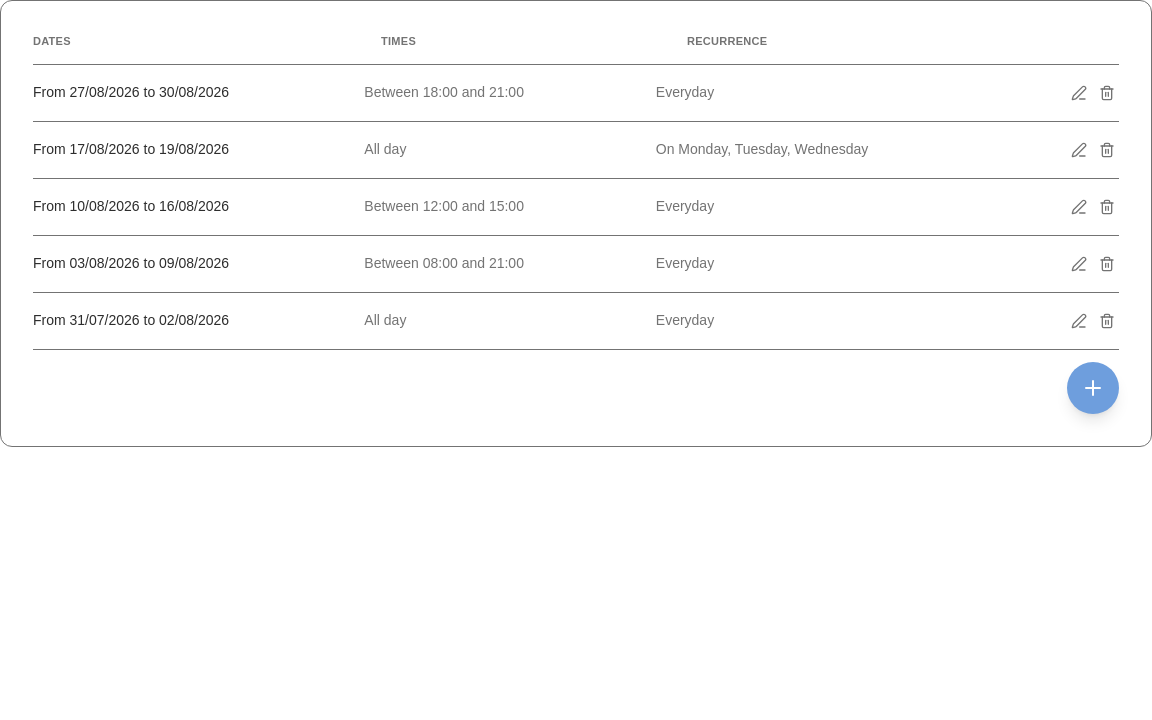
Test: Availability › disables Save until a valid date is entered for the default range mode
The width and height of the screenshot is (1152, 720).
Click the button named "Add availability".
click(1093, 388)  # box [1067,362,1119,414]
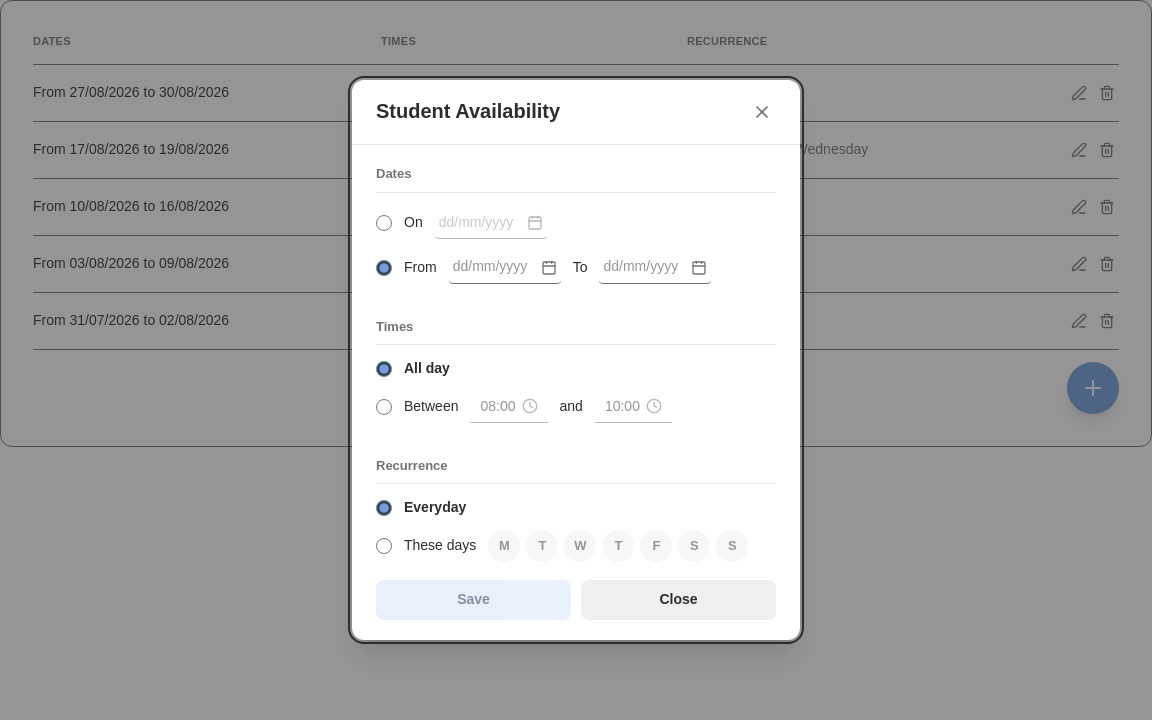
Expected: the button "Save" is disabled, [376,580,571,620]
Type "20/08/2026" into the field named "From date".
click(505, 268); type("20/08/2026")  # box [449,251,561,284]
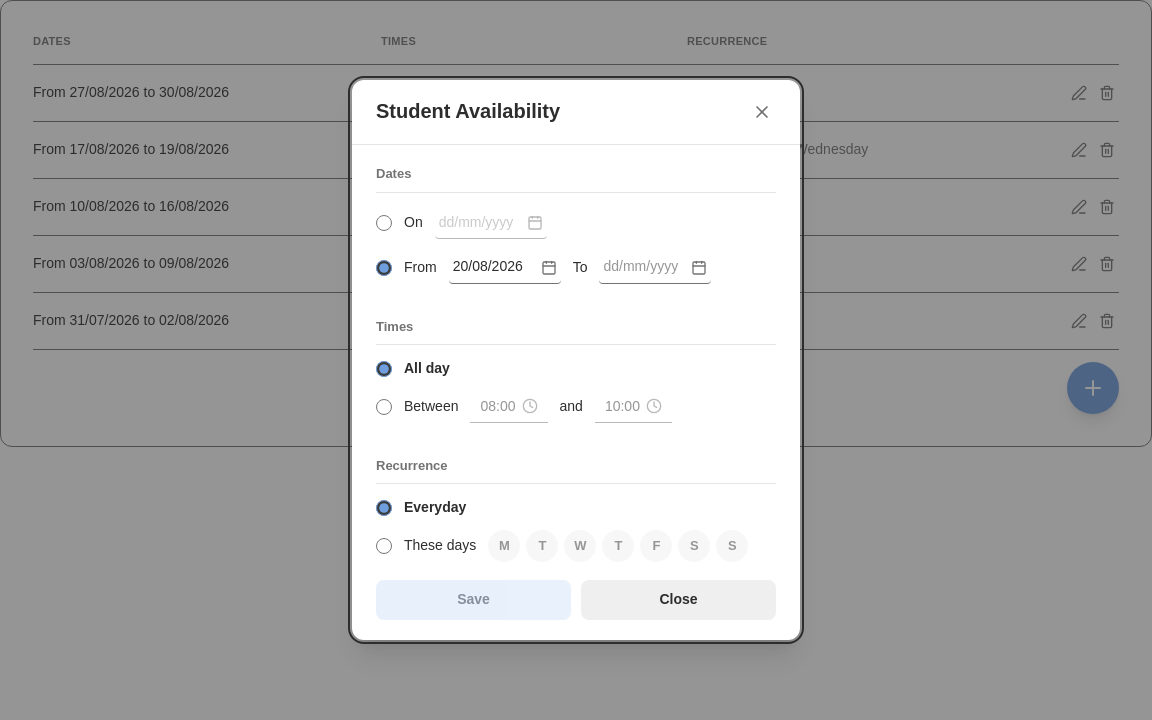
Expected: the button "Save" is disabled, [376,580,571,620]
Type "25/08/2026" into the field named "To date".
click(656, 268); type("25/08/2026")  # box [600,251,712,284]
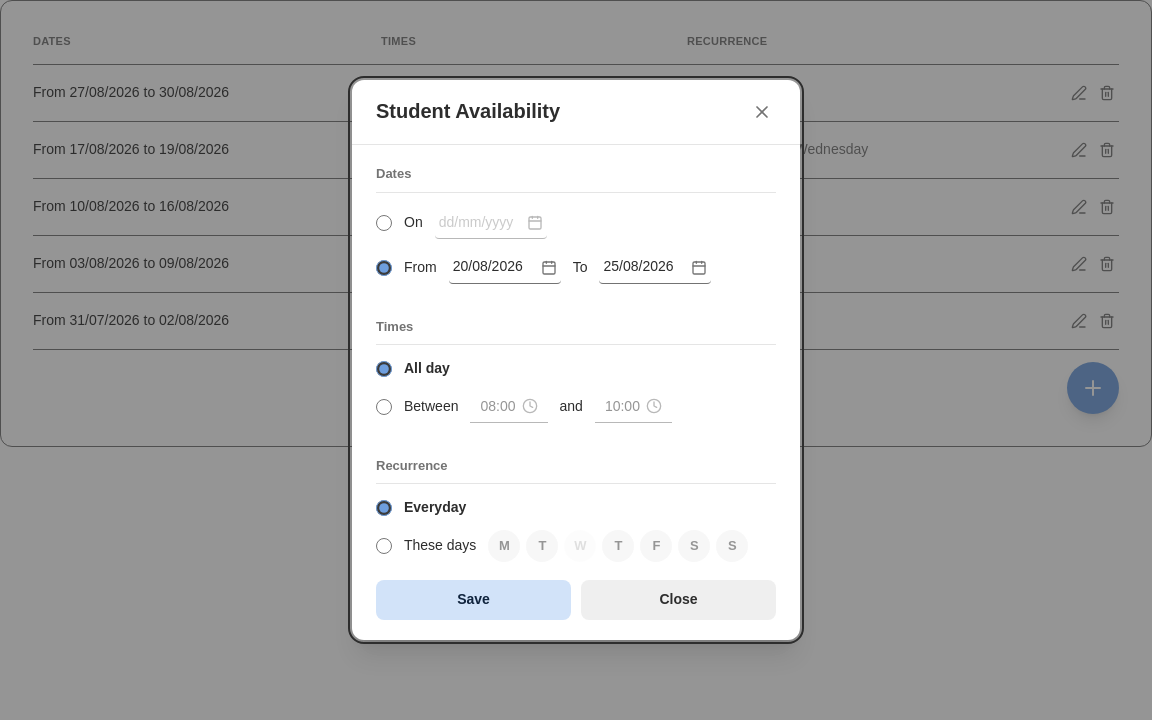
Expected: the button "Save" is enabled, [376,580,571,620]
